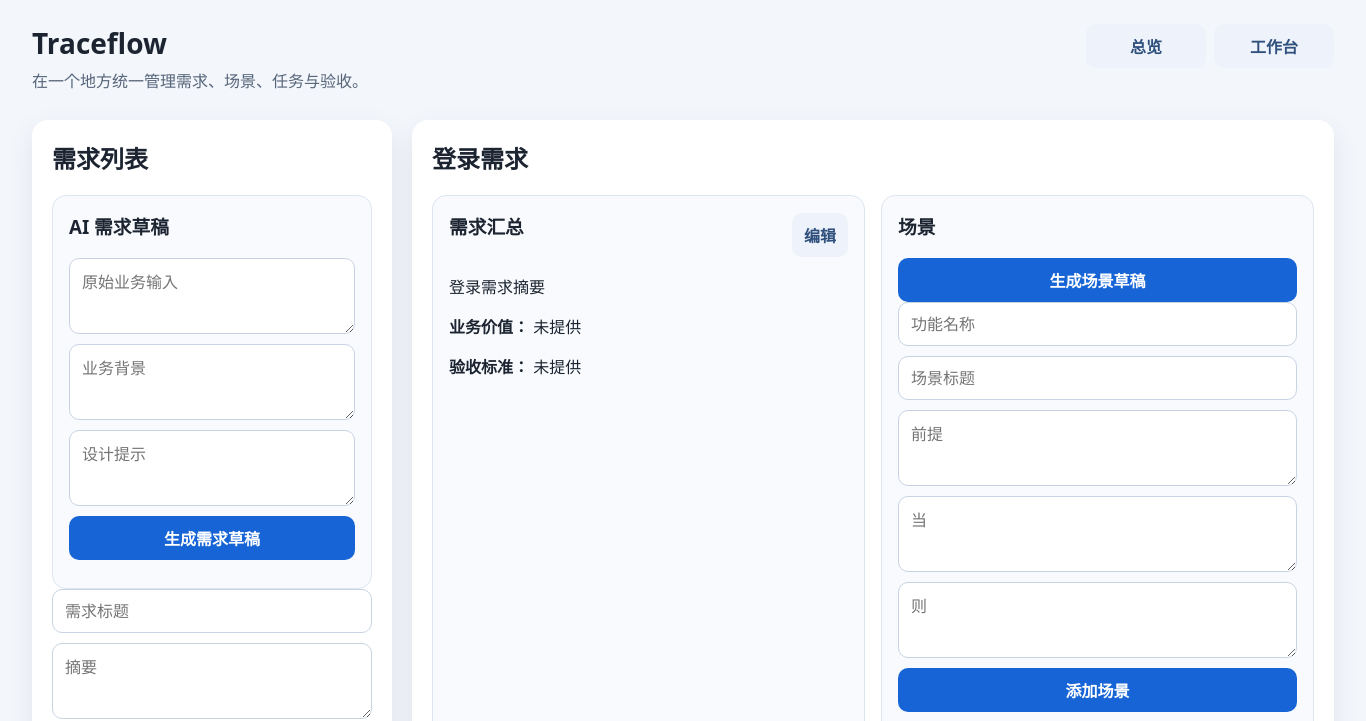
Test: App › shows dashboard empty state when no summary data exists
Expected: the text "登录需求摘要" is shown, [449,276,545,298]
Click the button "总览": [1146, 46] box [1086,24,1206,68]
(page scrolled)
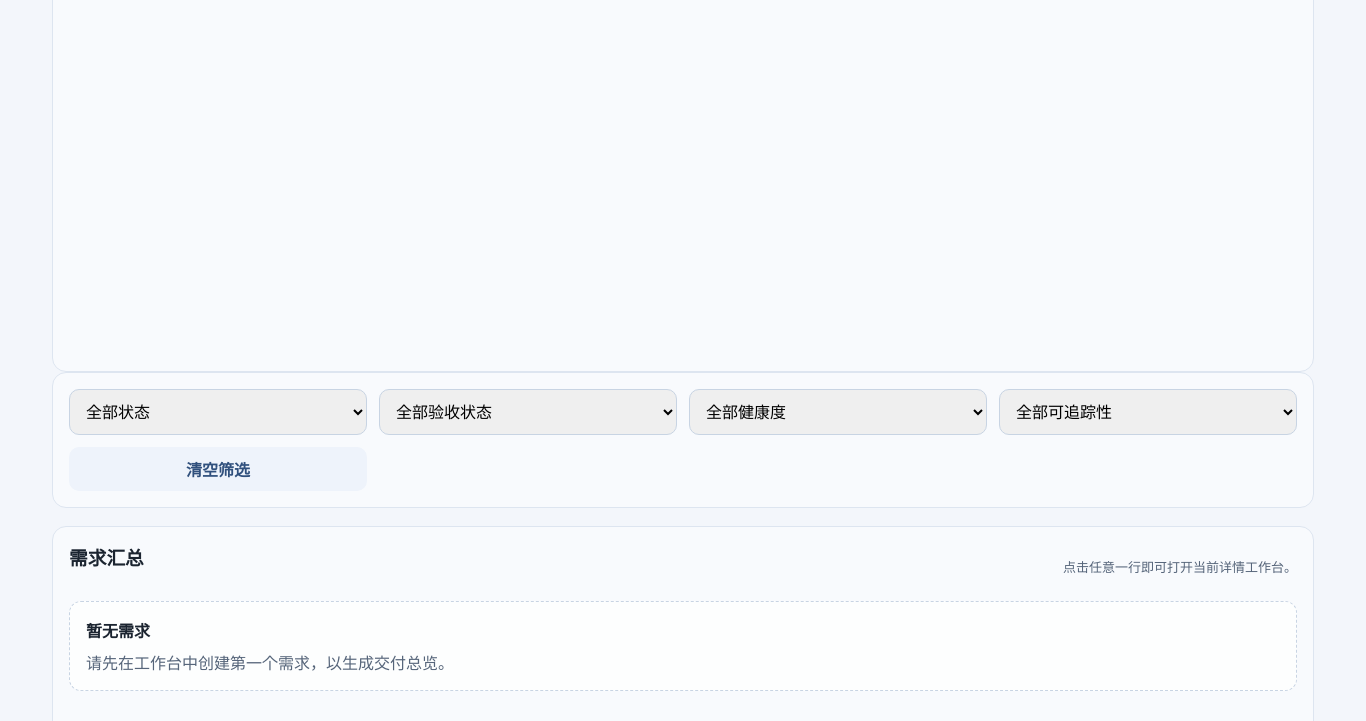
Now the heading "暂无需求" is shown, box [86,620,150,642]
Now the text "请先在工作台中创建第一个需求，以生成交付总览。" is shown, box [86,652,454,674]
